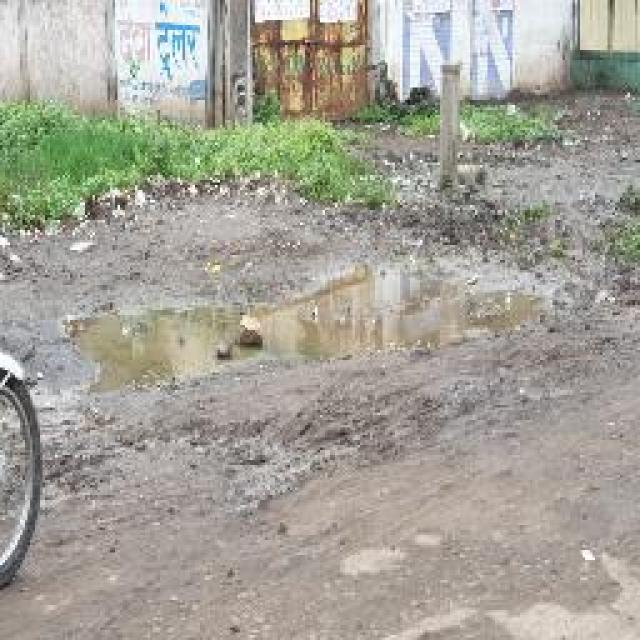waterlogging: (54, 295, 466, 376)
